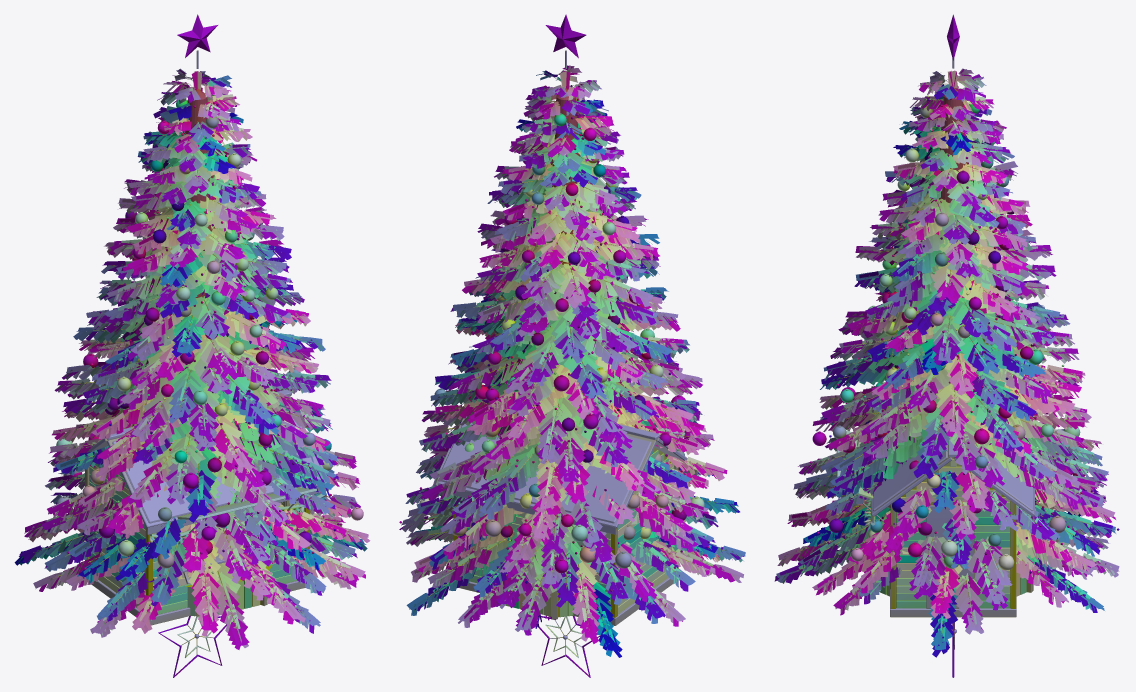
Rendered from christmas.glb.
3 renders of one model, left to right at view 1: azimuth 30°, elevation 25°; view 2: azimuth 150°, elevation 25°; view 3: azimuth 270°, elevation 25°, orthographic.
Visible parts, largest first — view 1: tree_lod0, chalet_lod0, spanmotif_lod0; view 2: tree_lod0, chalet_lod0, spanmotif_lod0; view 3: tree_lod0, chalet_lod0.
Part boxes in pixels (x1=…): tree_lod0: x1=14, y1=14, x2=370, y2=649; chalet_lod0: x1=66, y1=389, x2=329, y2=625; spanmotif_lod0: x1=158, y1=616, x2=226, y2=677; tree_lod0: x1=399, y1=14, x2=745, y2=657; chalet_lod0: x1=433, y1=416, x2=699, y2=625; spanmotif_lod0: x1=537, y1=616, x2=600, y2=677; tree_lod0: x1=774, y1=14, x2=1119, y2=657; chalet_lod0: x1=836, y1=430, x2=1034, y2=617.
Size of what is drawn, in the model's own units: 5.83 by 12.02 by 5.8.
